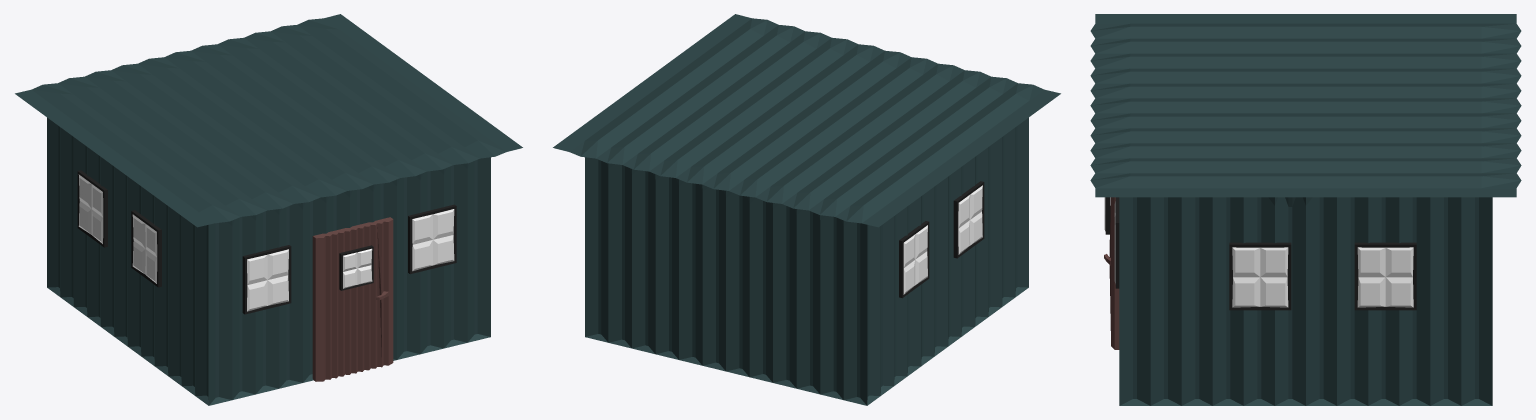
File: TinShackBlue.fbx
3 renders of one model, left to right at view 1: azimuth 30°, elevation 25°; view 2: azimuth 150°, elevation 25°; view 3: azimuth 270°, elevation 25°, orthographic. The views are drawn at different scales.
Visible parts, largest first — view 1: Box001, Box002, Box009, Box004, Box005, Box007, Box003; view 2: Box001, Box005, Box007; view 3: Box001, Box006, Box008, Box002, Box004.
Part boxes in pixels (x1,y1,x2,y2): Box001: (15,14,522,405); Box002: (312,217,393,381); Box009: (242,245,291,314); Box004: (408,204,456,274); Box005: (131,210,161,287); Box007: (77,170,107,247); Box003: (339,245,373,290); Box001: (553,14,1060,405); Box005: (953,181,984,258); Box007: (899,221,929,298); Box001: (1090,14,1521,405); Box006: (1229,242,1291,310); Box008: (1354,242,1416,310); Box002: (1104,197,1119,349); Box004: (1114,197,1119,288).
Size of the model in its own units: 138 by 79.07 by 137.
